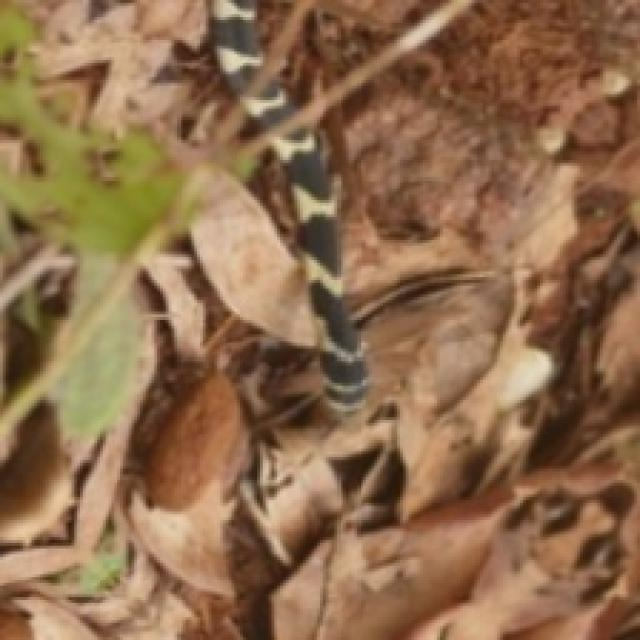king cobra: (191, 129, 366, 411), (211, 0, 286, 123)
